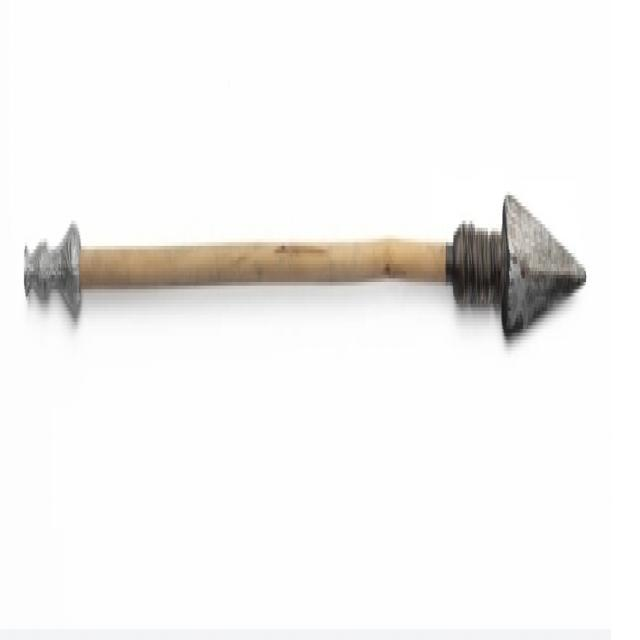spear: (18, 118, 596, 422)
